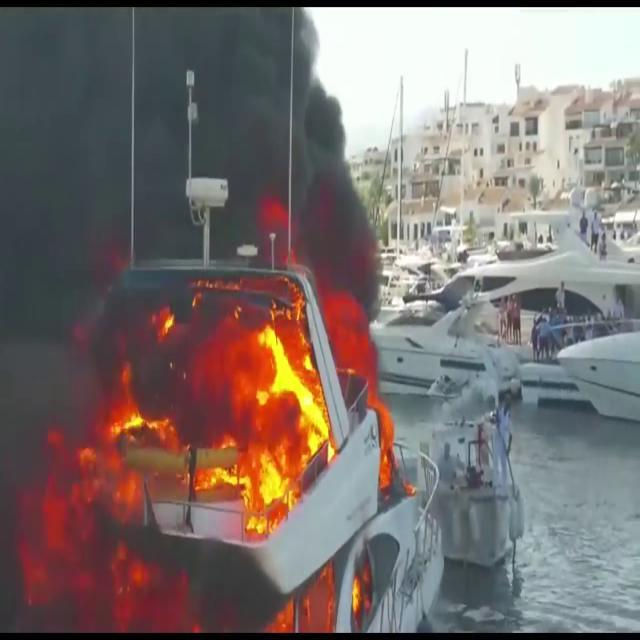Fire: (203, 279, 335, 526), (103, 396, 177, 442), (372, 386, 398, 494)
Smoke: (1, 2, 382, 328), (0, 2, 160, 612)
